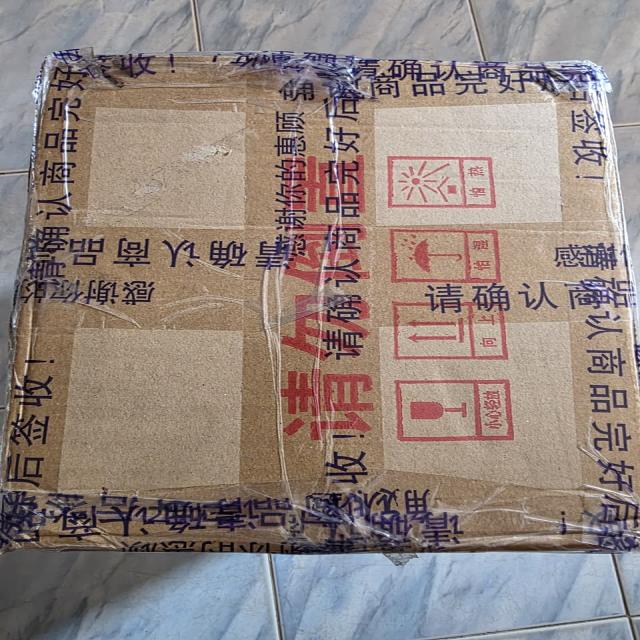carton_box: (0, 14, 640, 567)
fragile_label: (383, 371, 535, 458)
keep_dry_label: (378, 208, 526, 289)
package_damage: (250, 503, 640, 568)
protect_from_heat_label: (372, 141, 526, 223)
this_side_up_label: (382, 296, 524, 362)
